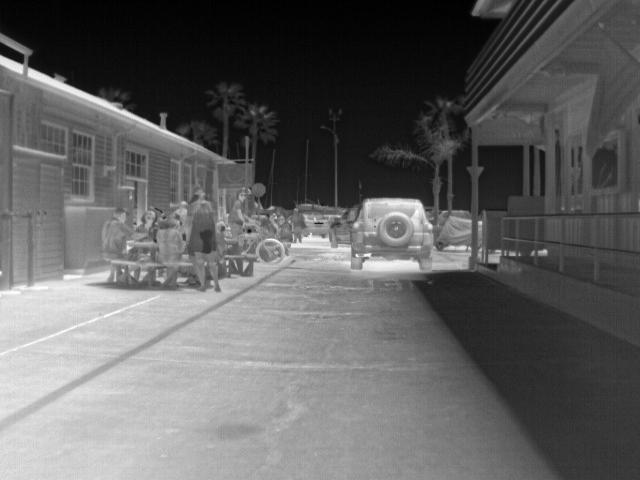car: (347, 193, 440, 269), (329, 204, 358, 248), (297, 211, 328, 237)
person: (184, 190, 223, 296), (226, 183, 274, 238), (101, 207, 143, 263), (153, 216, 183, 262), (134, 204, 164, 242), (288, 205, 305, 243)
